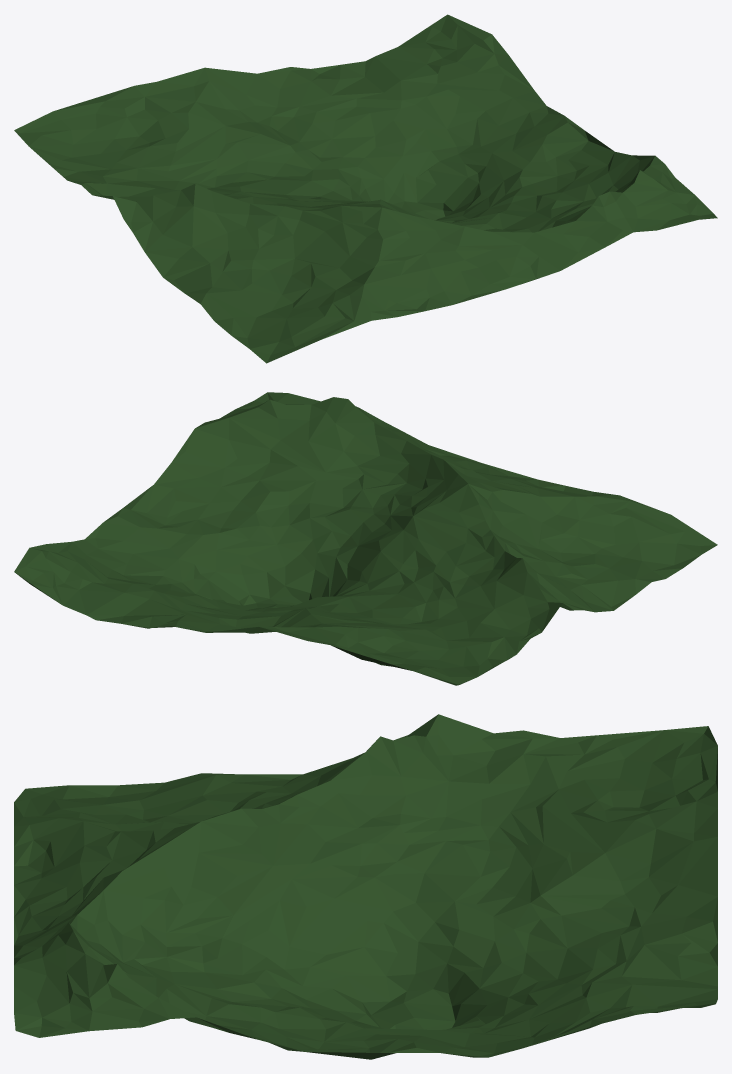
Rendered from SM_landscape_28.fbx.
3 views of the same model, one above another, from view 1: azimuth 30°, elevation 25°; view 2: azimuth 150°, elevation 25°; view 3: azimuth 270°, elevation 25° (orthographic). The views are drawn at different scales.
Visible parts, largest first — view 1: landscape_28; view 2: landscape_28; view 3: landscape_28.
Boxes of the visible parts, x1,y1,x2,y2 form: landscape_28: (14, 14, 717, 363); landscape_28: (14, 392, 717, 685); landscape_28: (14, 714, 717, 1059).
Size of the model in its own units: 2224 by 492 by 2224.
